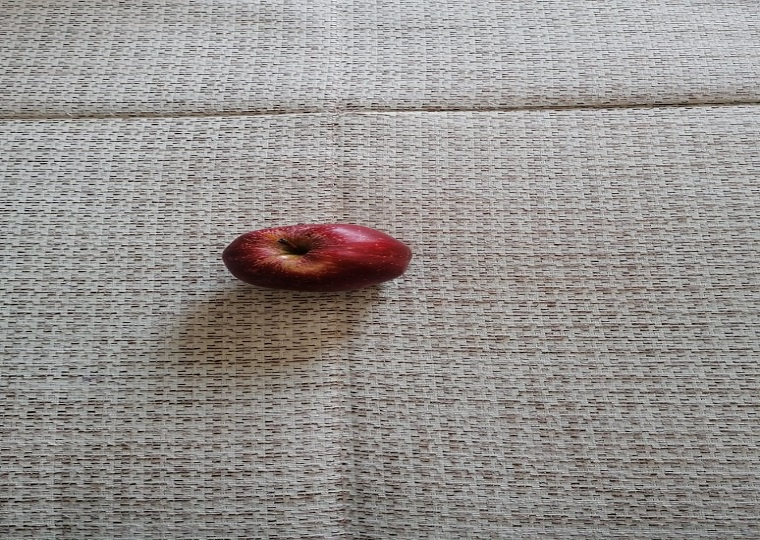elma: (221, 222, 414, 292)
